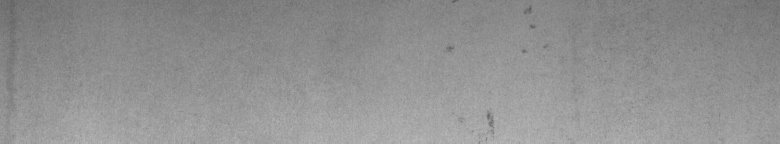ib: (443, 4, 549, 136)
